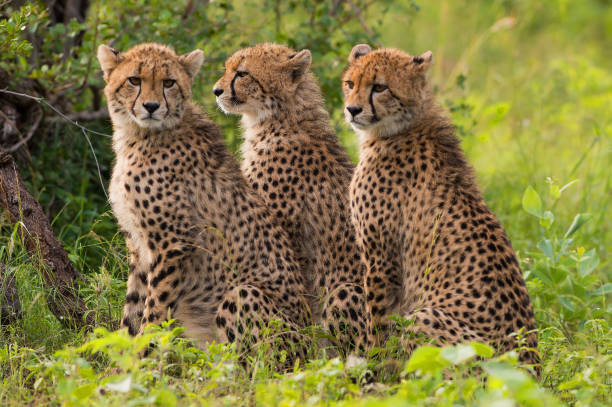cheetah: (331, 35, 446, 142), (86, 40, 208, 137)
